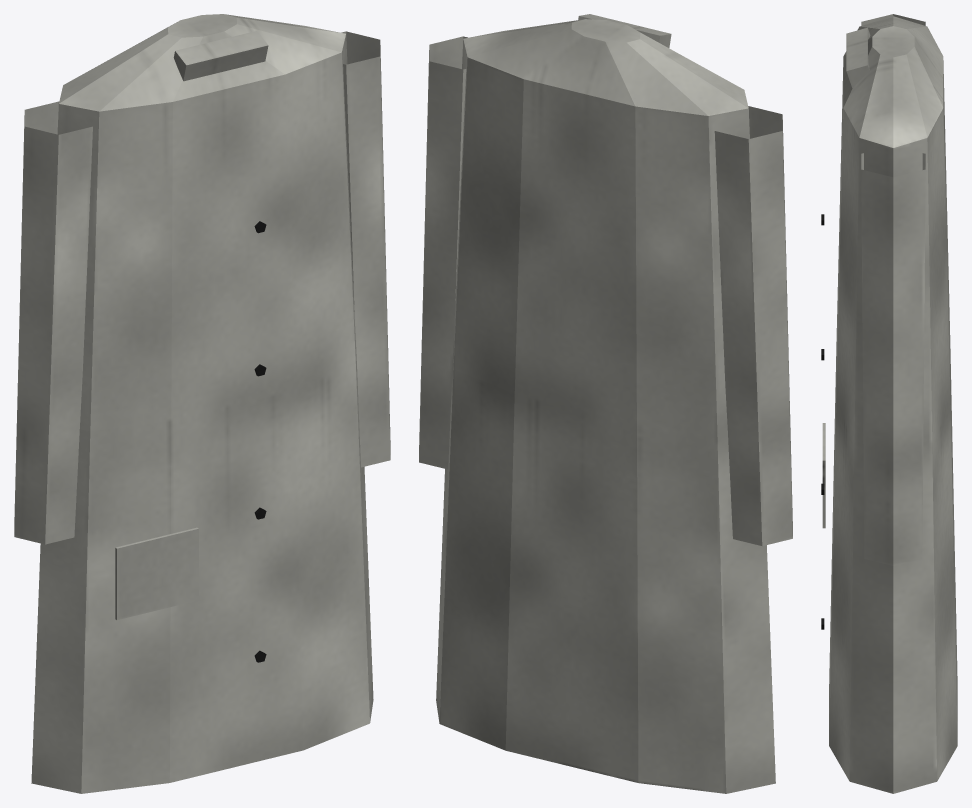
File: Coat_Medical.fbx
3 renders of one model, left to right at view 1: azimuth 30°, elevation 25°; view 2: azimuth 150°, elevation 25°; view 3: azimuth 270°, elevation 25°, orthographic. The views are drawn at different scales.
Parts seen in each view (by area): view 1: халат; view 2: халат; view 3: халат.
Boxes of the visible parts, x1,y1,x2,y2 form: халат: (14, 14, 390, 793); халат: (419, 14, 792, 793); халат: (821, 14, 957, 793).
Size of the model in its own units: 0.55 by 1 by 0.1835.
Materials: 1 (1 with a texture image).
